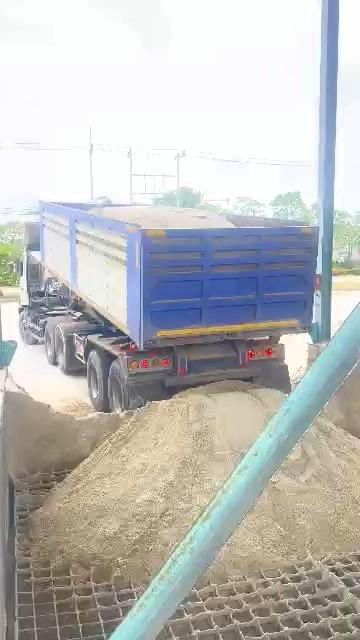sand: (33, 382, 282, 579), (208, 418, 360, 577), (6, 393, 122, 479), (89, 206, 234, 228), (325, 362, 360, 438)
